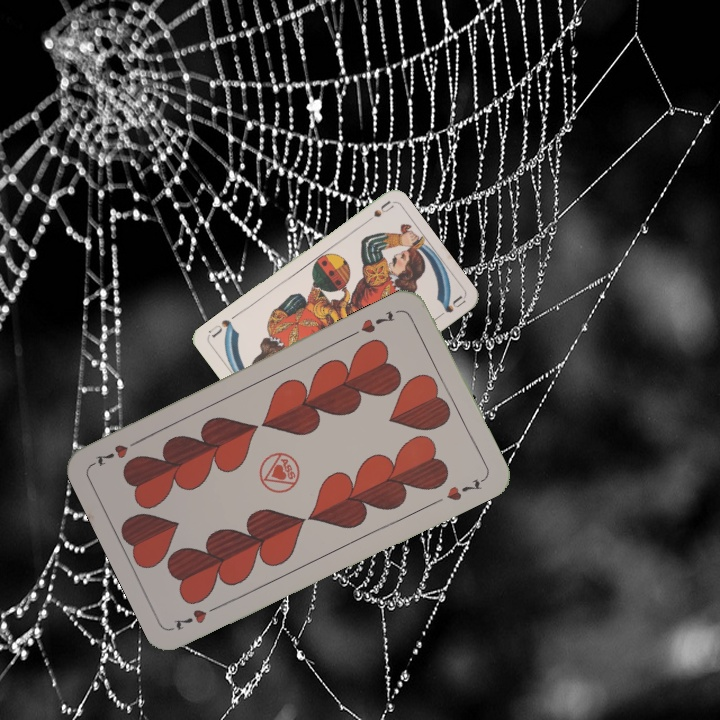H7: (169, 600, 224, 633), (356, 307, 398, 336)
SU: (358, 197, 395, 228)
